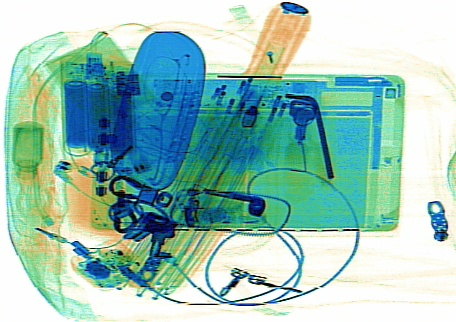powerbank: (57, 48, 131, 154)
